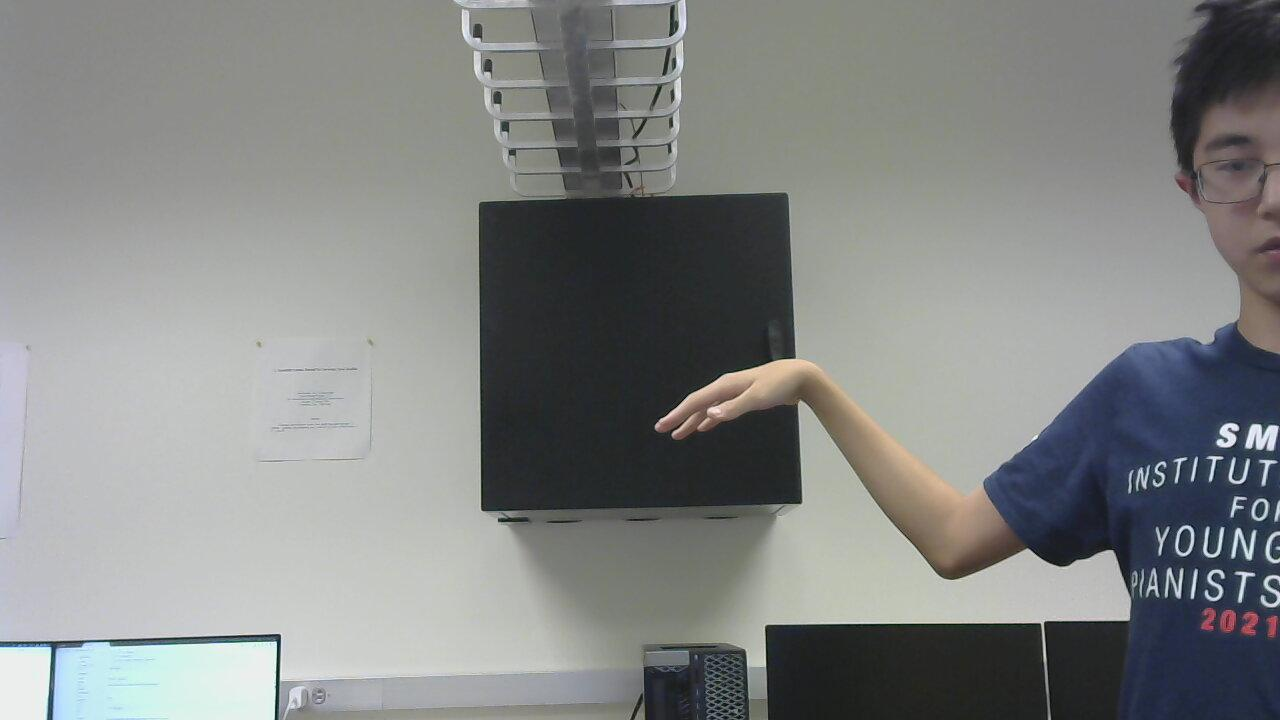hands: (646, 346, 817, 444)
